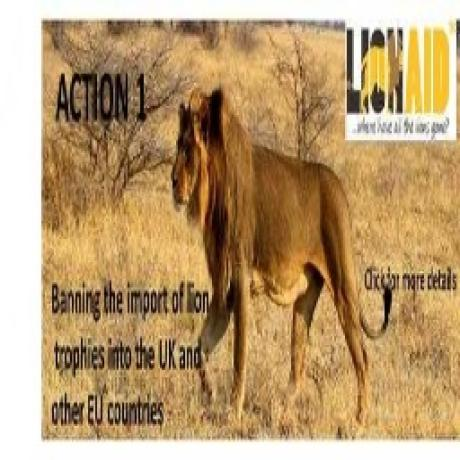Lion: (169, 83, 395, 419)
